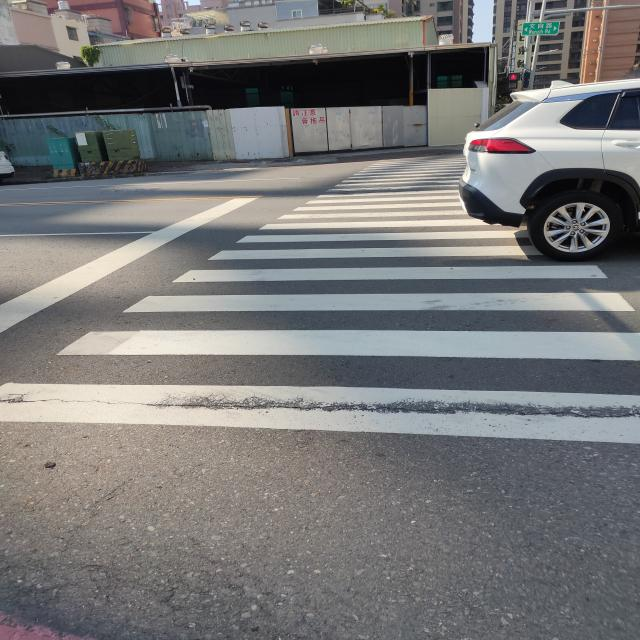zebra crossing: (0, 146, 640, 452)
